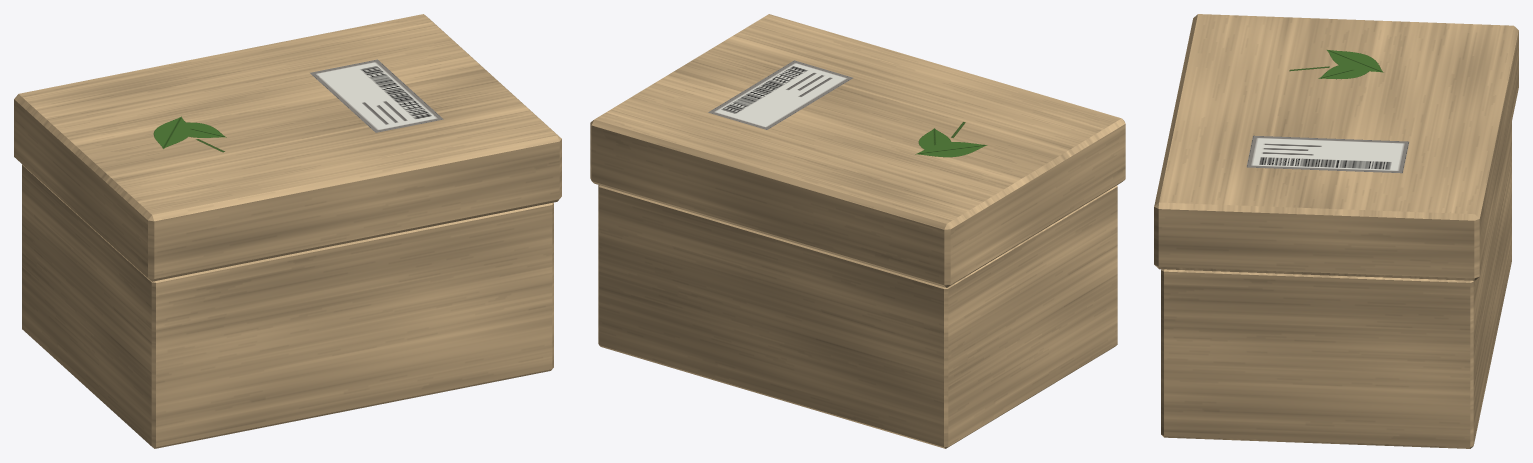
File: LAY_06E.fbx
The picture shows the model from 3 angles, left to right: view 1: azimuth 30°, elevation 25°; view 2: azimuth 150°, elevation 25°; view 3: azimuth 270°, elevation 25°; orthographic projection. The views are drawn at different scales.
Parts seen in each view (by area): view 1: LAY_06E_Caja_Te; view 2: LAY_06E_Caja_Te; view 3: LAY_06E_Caja_Te.
Part boxes in pixels (x1,y1,x2,y2): LAY_06E_Caja_Te: [14, 14, 561, 448]; LAY_06E_Caja_Te: [590, 14, 1125, 448]; LAY_06E_Caja_Te: [1154, 14, 1518, 448].
Size of the model in its own units: 0.2958 by 0.1606 by 0.2231.
